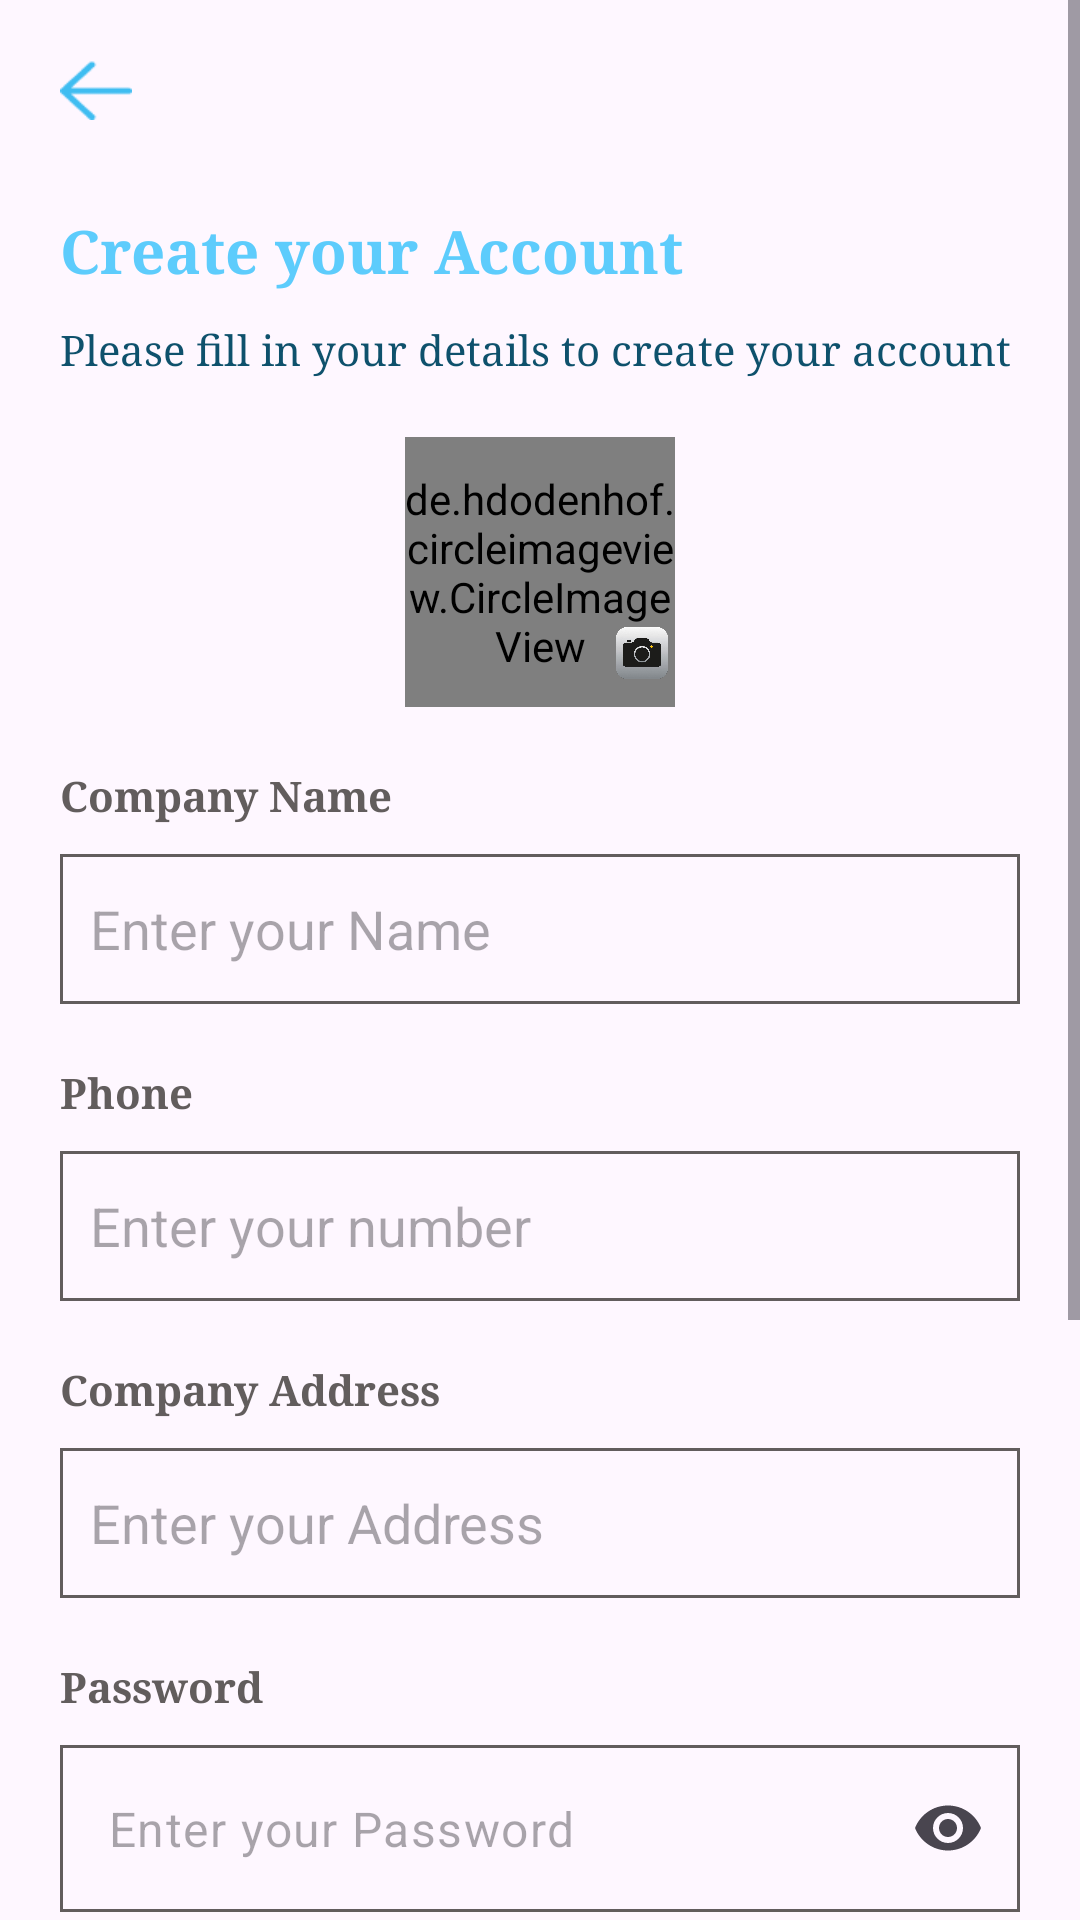

Icons on this 1080*1920 Android screen, each with its box as (x1, y1, x2, y2):
back arrow: (60, 61, 132, 120)
camera: (616, 627, 668, 673)
